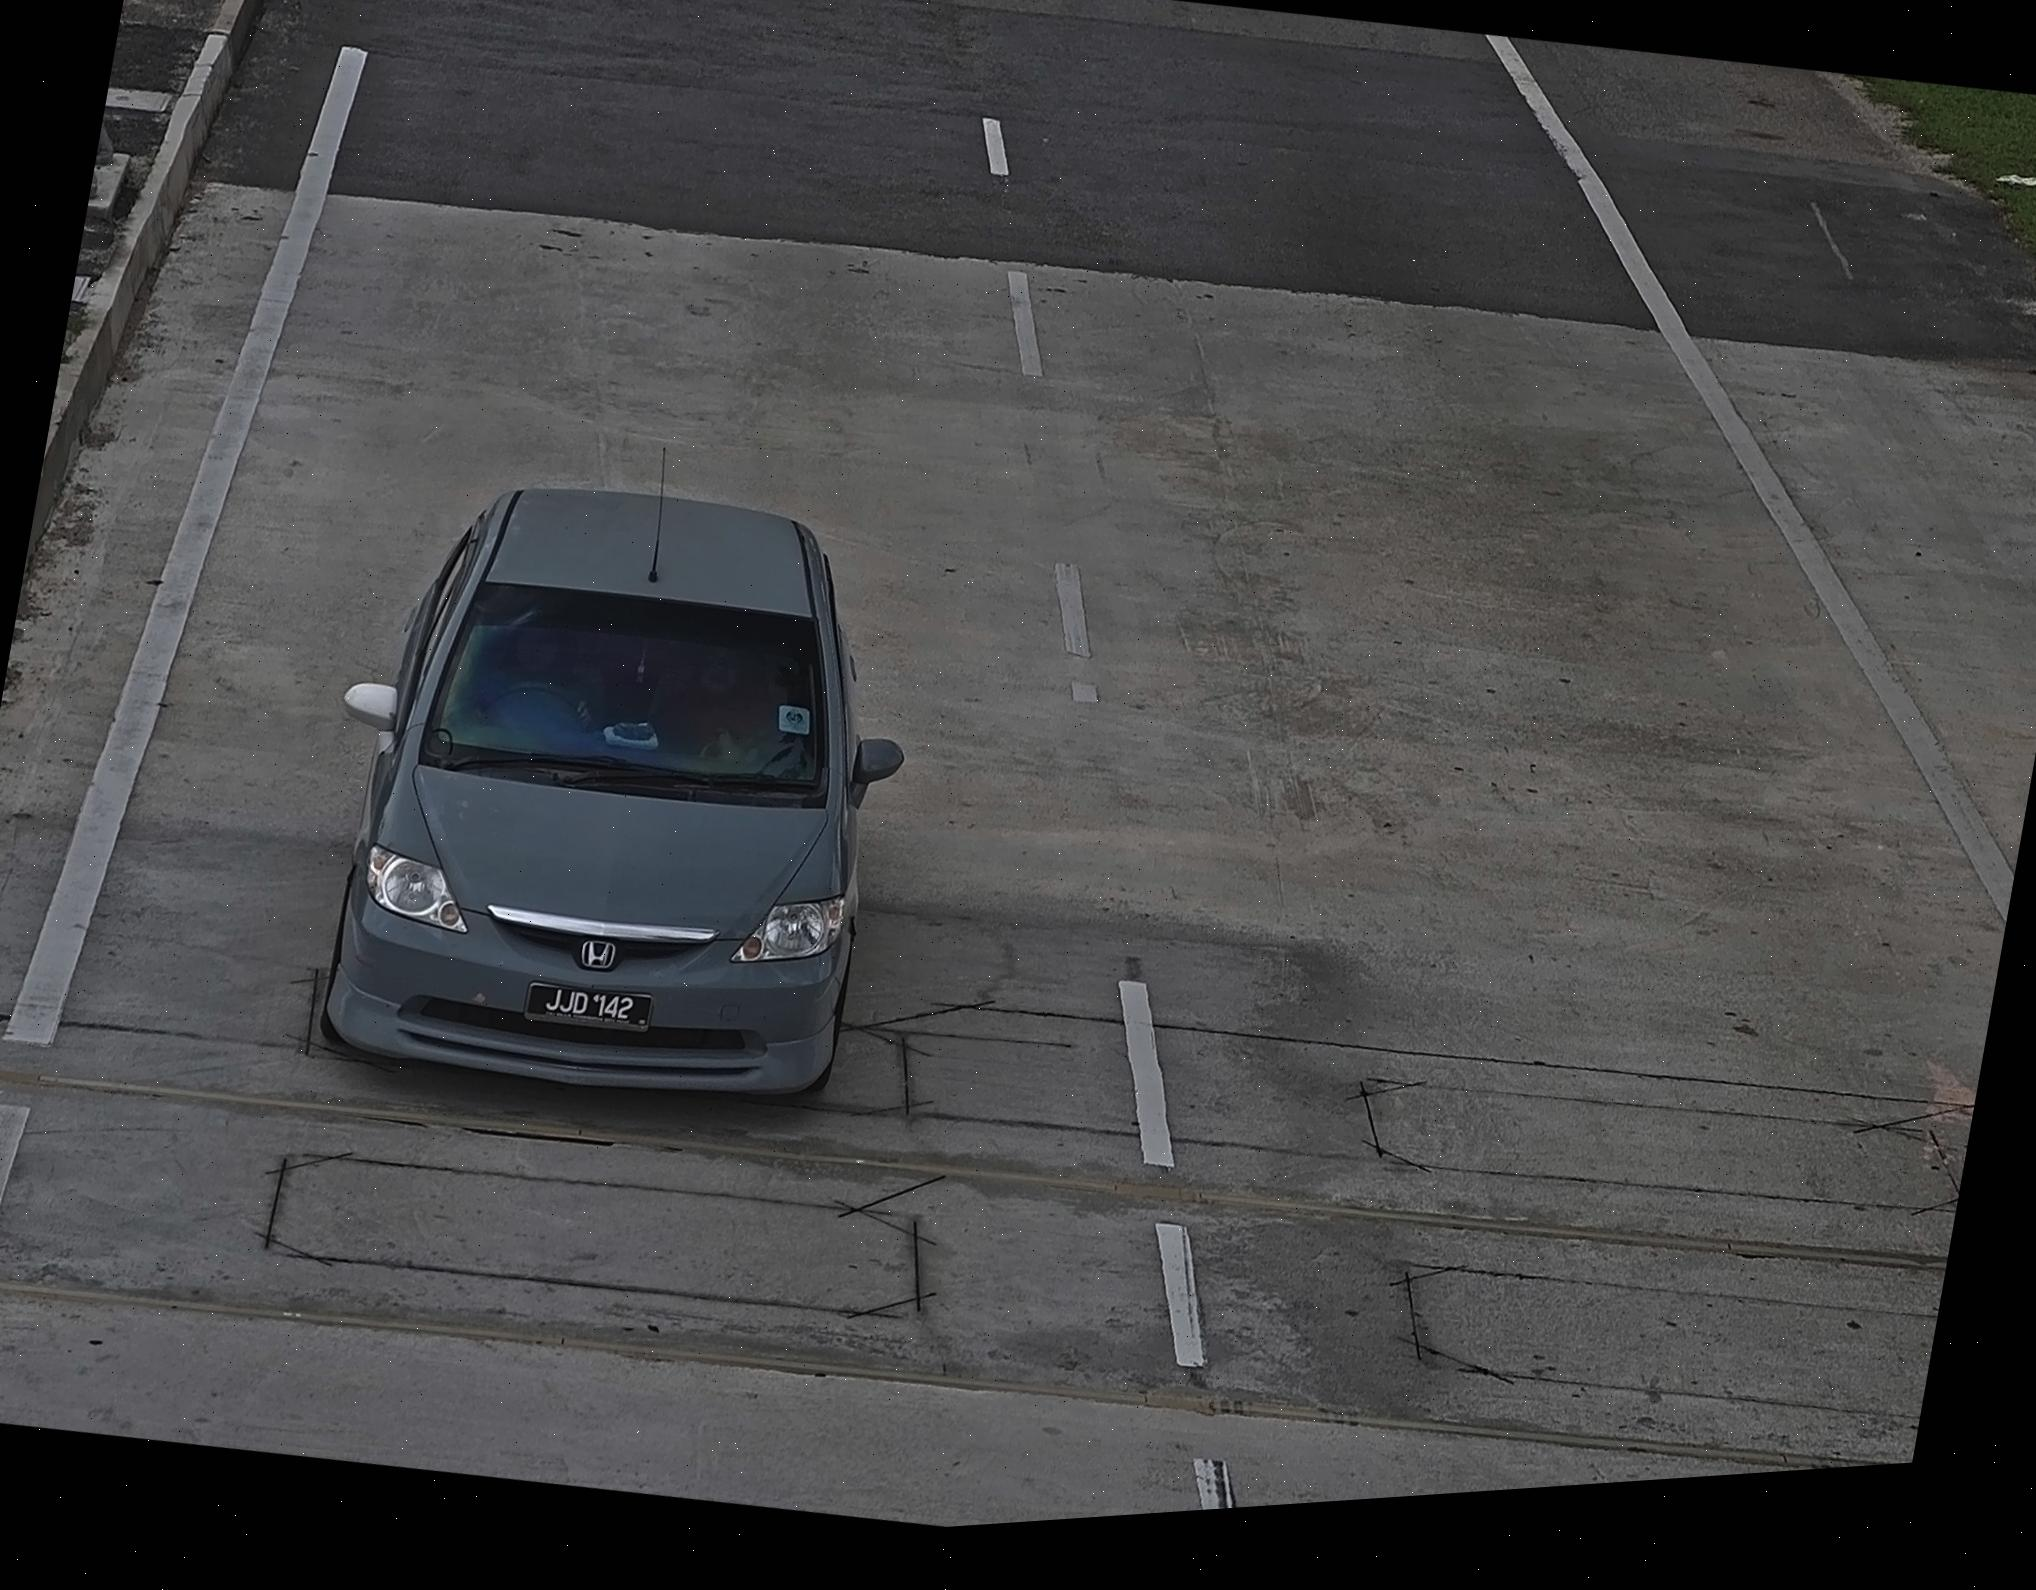broken: (528, 975, 652, 1037)
